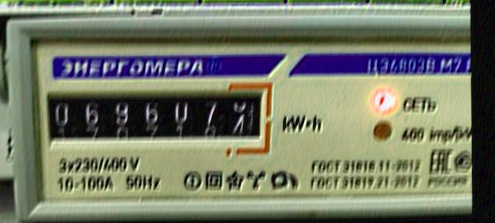0: (51, 102, 68, 126), (171, 99, 186, 124)
4: (228, 113, 244, 137)
6: (81, 101, 98, 126), (141, 100, 158, 124)
7: (201, 100, 216, 126)
9: (111, 101, 127, 125)
screen: (32, 78, 274, 154)
